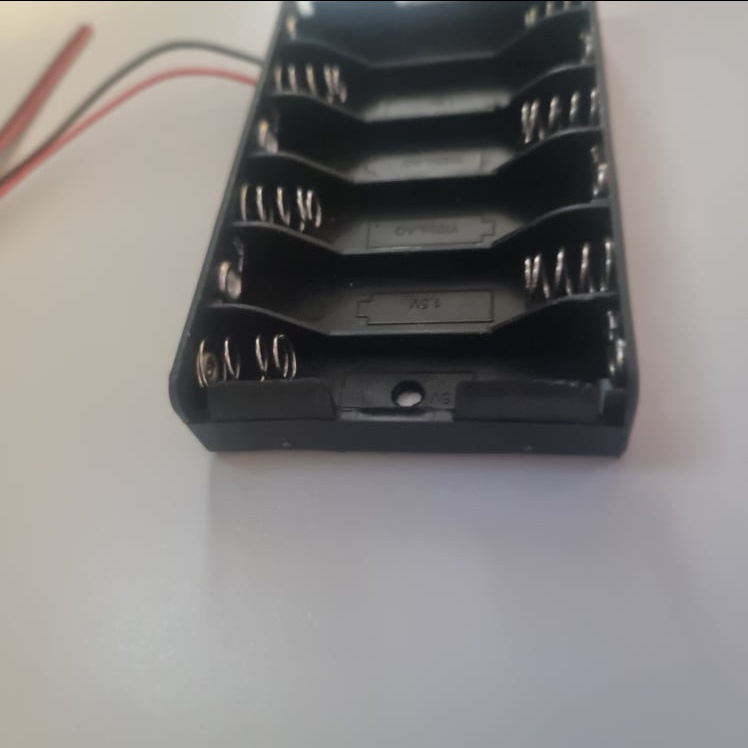BATTERY BOX: (169, 0, 640, 456)
